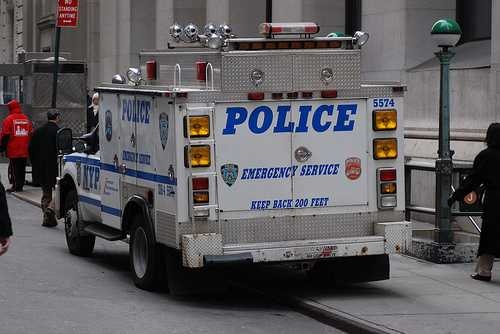Police Van: (36, 29, 415, 301)
